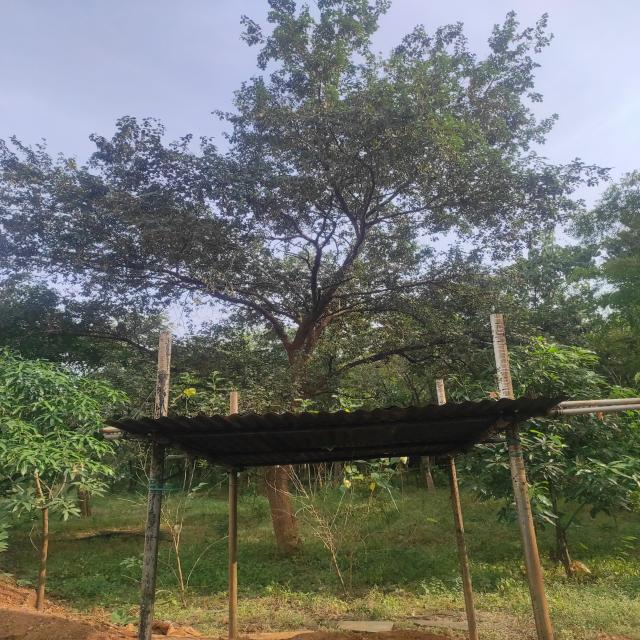Devakanchan tree: (98, 11, 534, 386)
